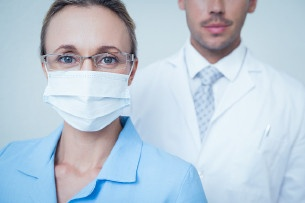Mask: (39, 35, 136, 132)
